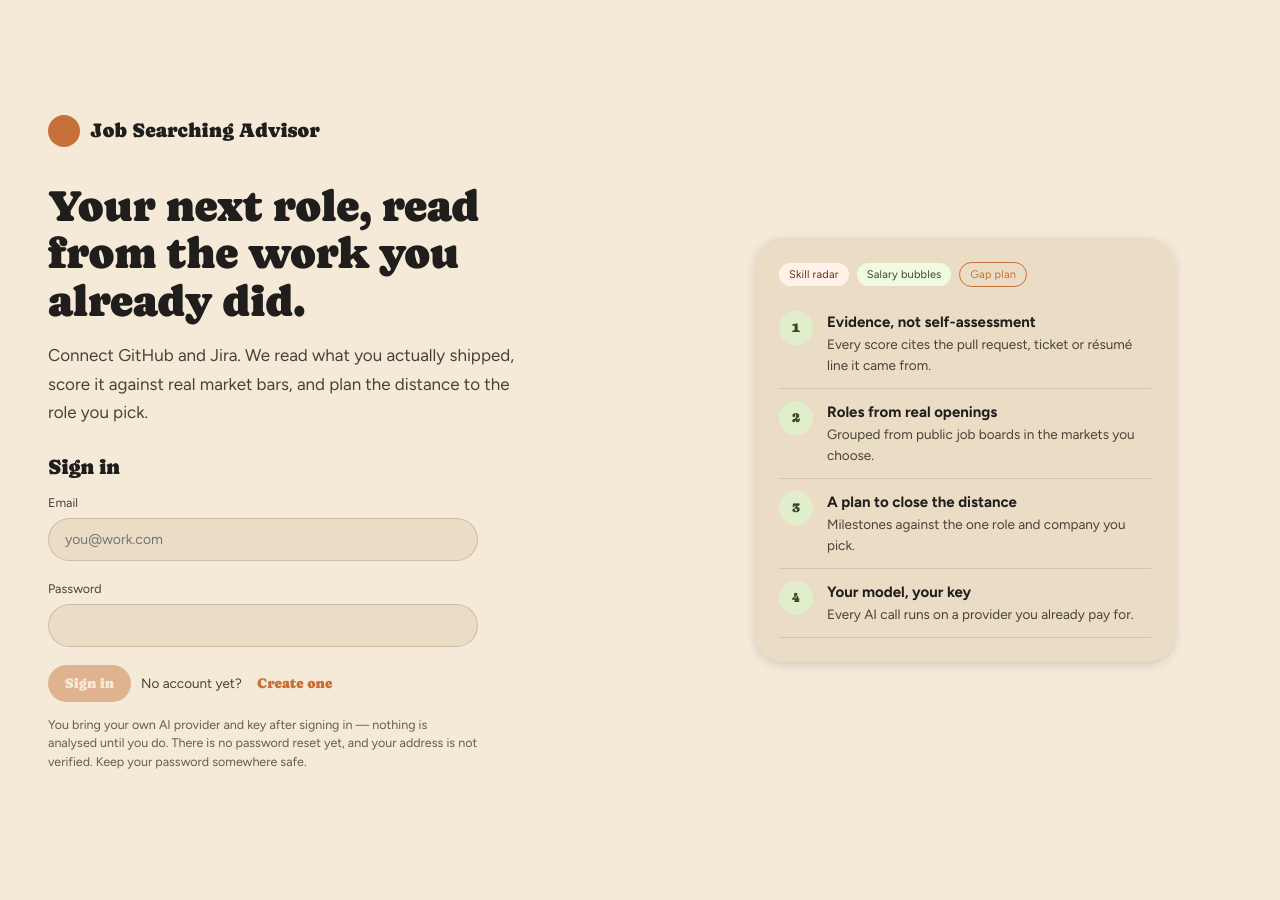
sign-in screen › shows the API's own message when sign-in is refused
Type "maya@example.com" into the field labelled "Email" at (263, 539), box x1=48 y1=518 x2=478 y2=561
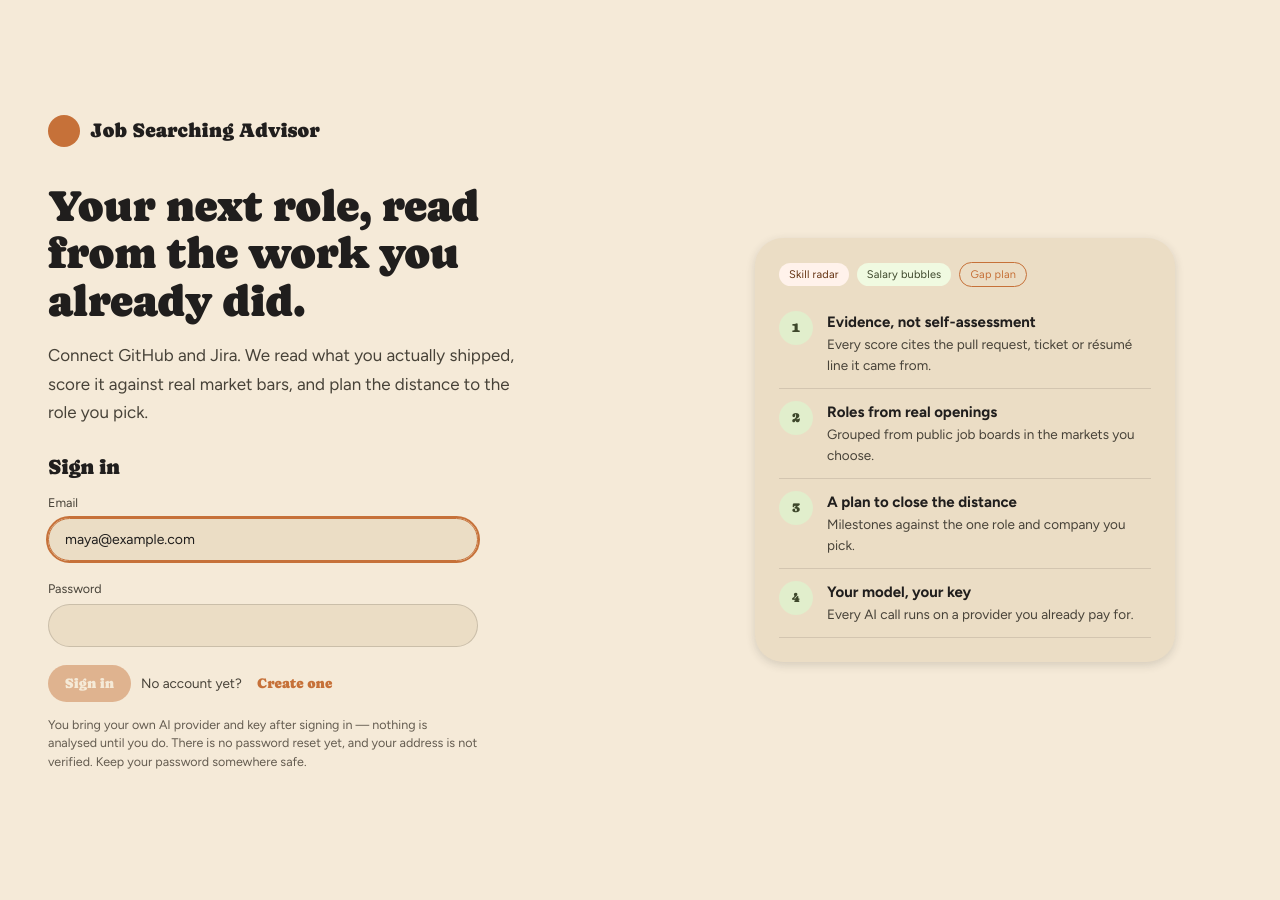
Type "the wrong passphrase" into the password field labelled "Password" at (263, 625), box x1=48 y1=604 x2=478 y2=647
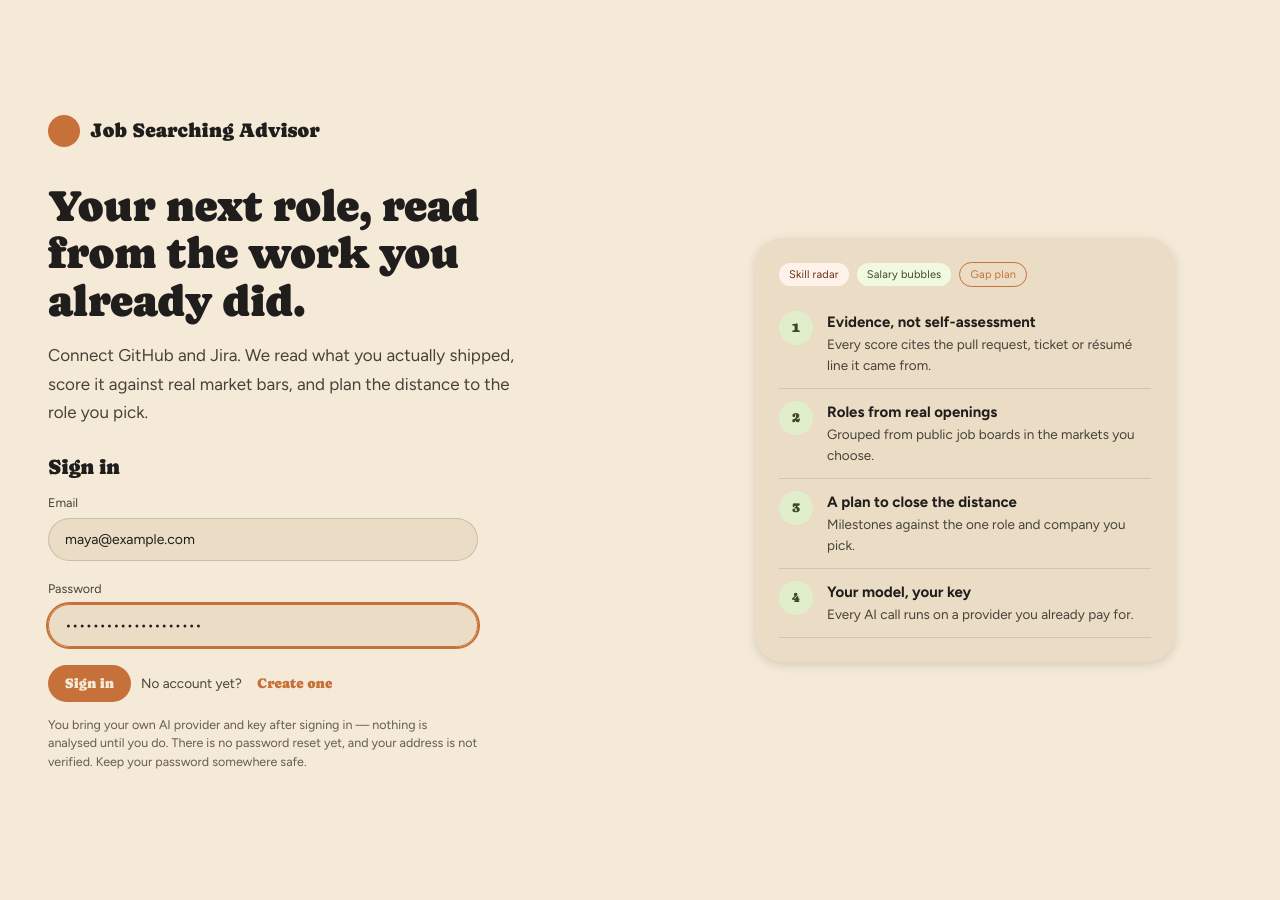
Click the button "Sign in" at (90, 684), box x1=48 y1=665 x2=131 y2=702
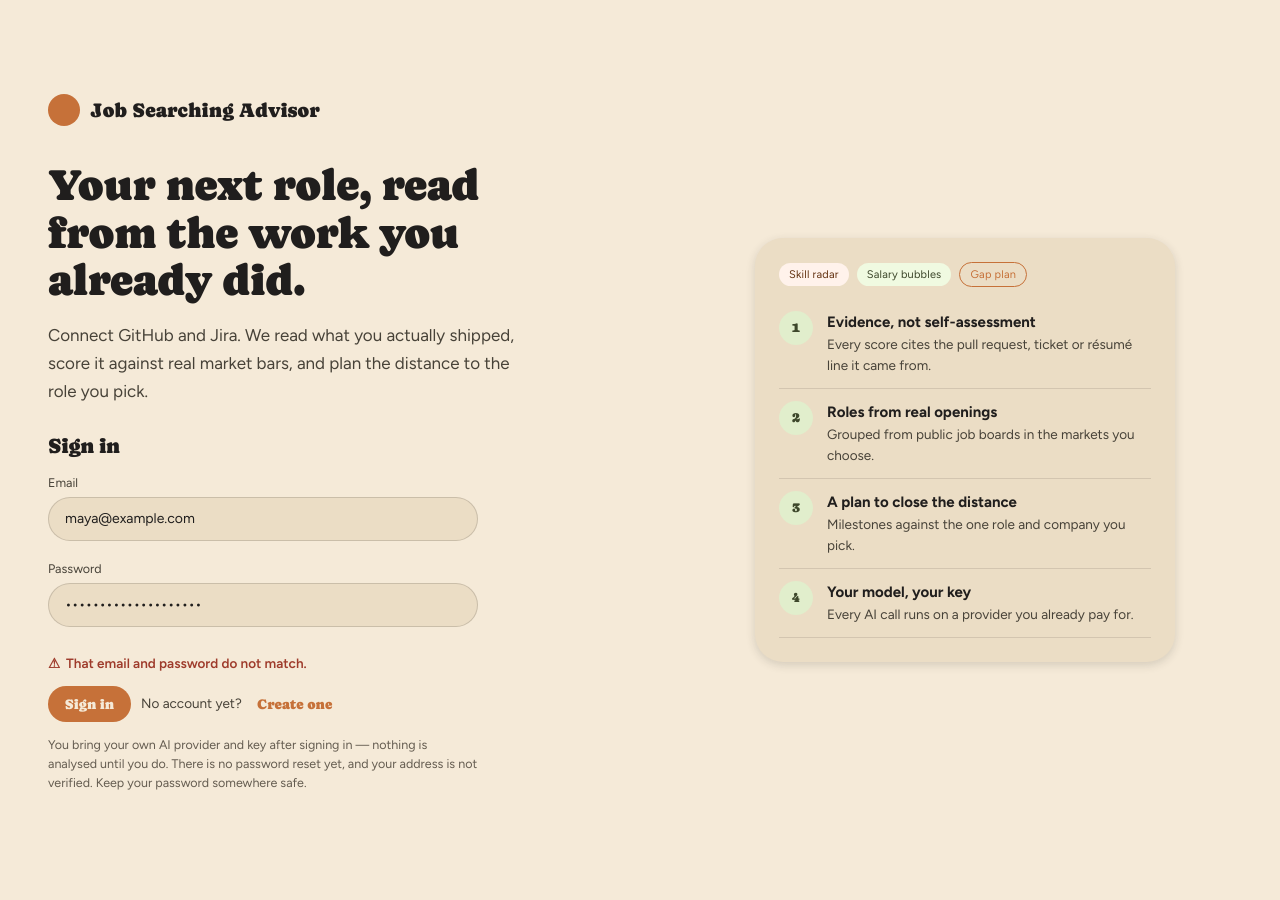
Result: the text "That email and password do not match." is shown at x1=66 y1=655 x2=307 y2=671
